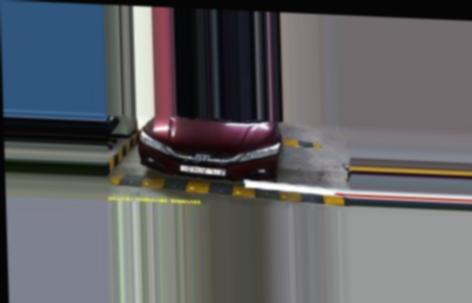License_Plate: (175, 164, 229, 177)
